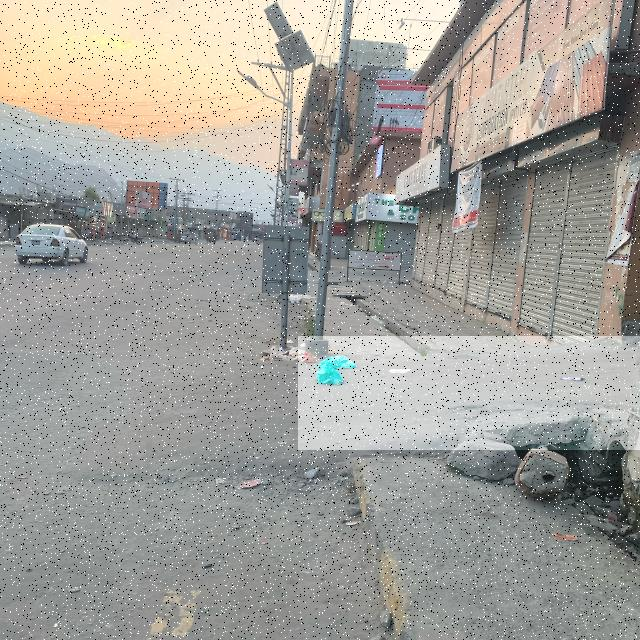right: (298, 336, 640, 450)
